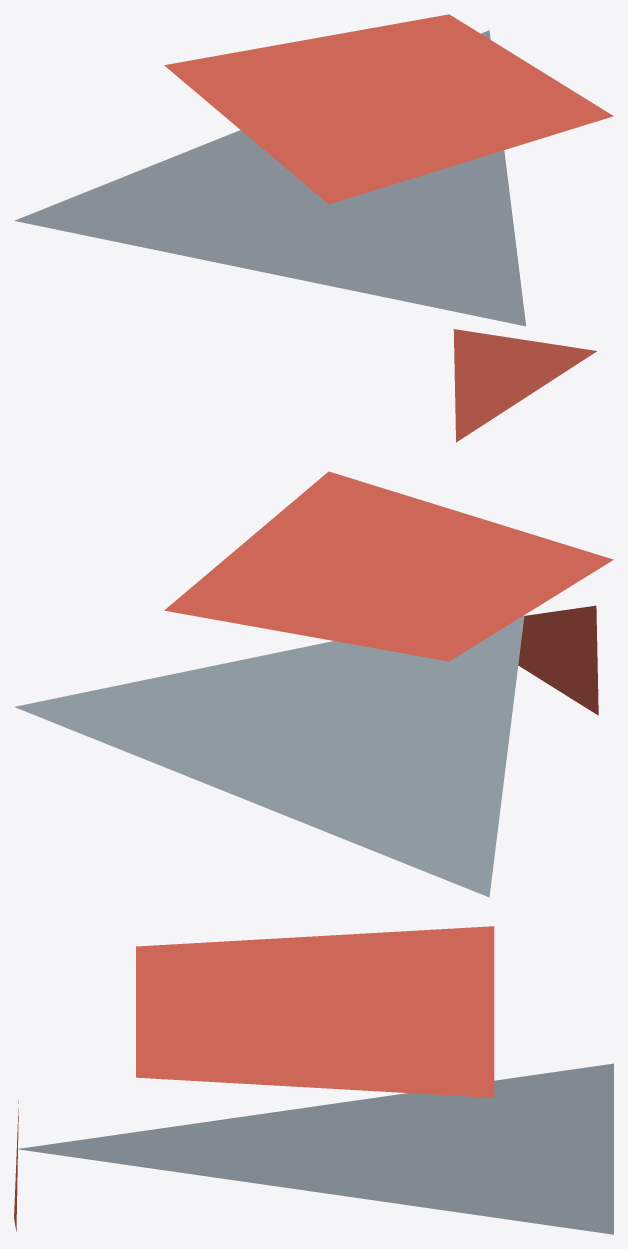
The model's file is SU_Airfield_LOD2.glb.
The picture shows the model from 3 angles, top to bottom: view 1: azimuth 30°, elevation 25°; view 2: azimuth 150°, elevation 25°; view 3: azimuth 270°, elevation 25°; orthographic projection. The views are drawn at different scales.
Visible parts, largest first — view 1: EntranceGate; view 2: EntranceGate; view 3: EntranceGate.
Boxes of the visible parts, bbox=[...] form: EntranceGate: bbox=[14, 14, 613, 442]; EntranceGate: bbox=[14, 471, 613, 897]; EntranceGate: bbox=[14, 926, 613, 1234].
Size of the model in its own units: 800 by 375 by 803.
